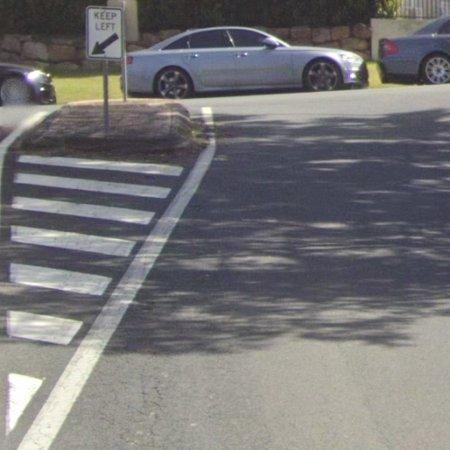crosswalks: (0, 146, 188, 450)
